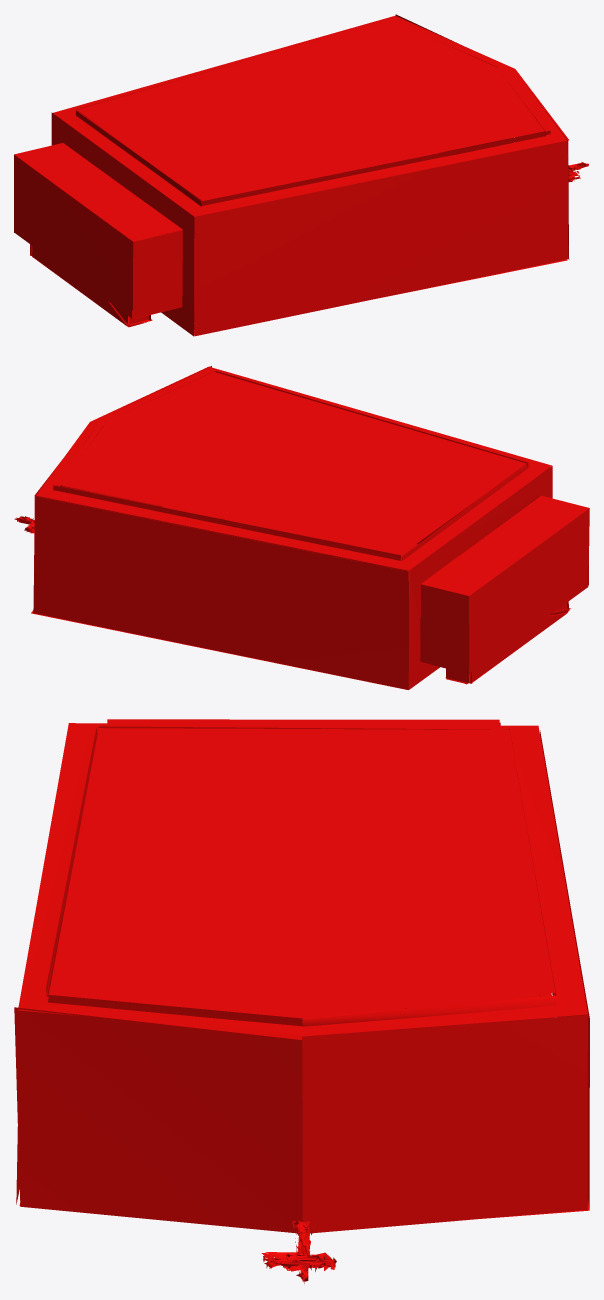
The picture shows the model from 3 angles, top to bottom: view 1: azimuth 30°, elevation 25°; view 2: azimuth 150°, elevation 25°; view 3: azimuth 270°, elevation 25°; orthographic projection. The views are drawn at different scales.
Visible parts, largest first — view 1: Renderer Node; view 2: Renderer Node; view 3: Renderer Node.
Boxes of the visible parts, bbox=[...] form: Renderer Node: bbox=[14, 14, 588, 336]; Renderer Node: bbox=[14, 366, 589, 689]; Renderer Node: bbox=[14, 719, 589, 1283].
Bounding box in the file's own units: 0.8522 × 0.2201 × 0.502.
Materials: 1 (1 with a texture image).
